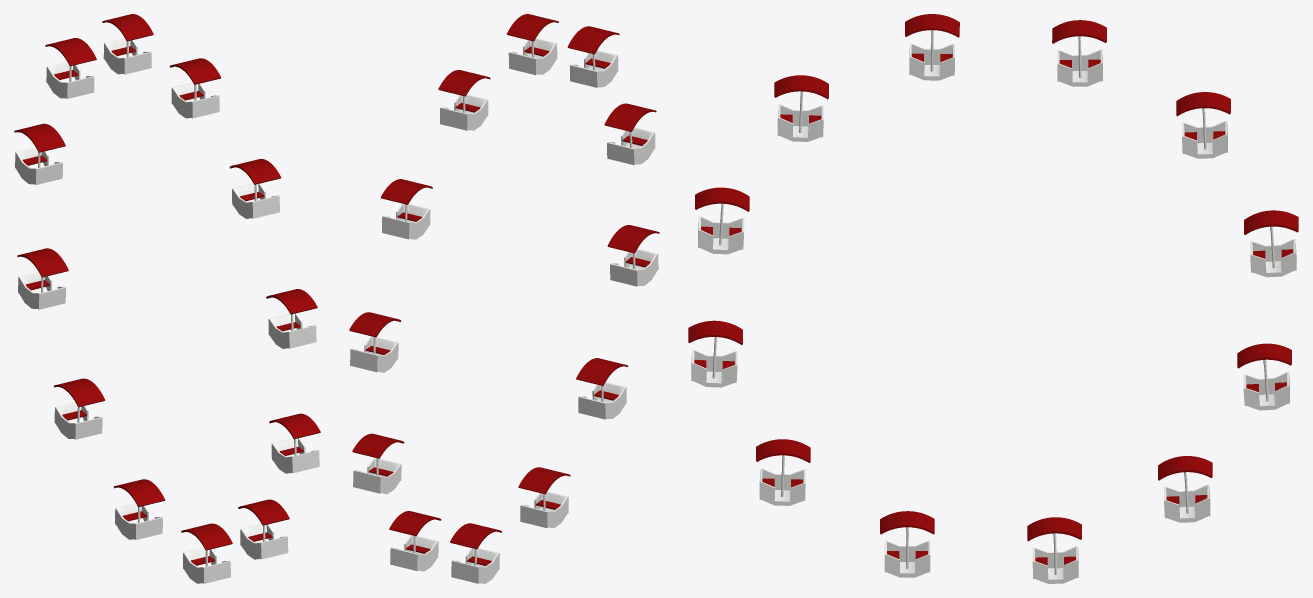
Rendered from seatings.obj.
3 views of the same model, side by side, from view 1: azimuth 30°, elevation 25°; view 2: azimuth 150°, elevation 25°; view 3: azimuth 270°, elevation 25° (orthographic). The views are drawn at different scales.
Parts seen in each view (by area): view 1: B2_7_2_Mat, B2_5_Mat, B2_2_Mat, B2_9_2_Mat, B2_10_2_Mat, B2_4_Mat, B2_6_2_Mat, B2_12_Mat, B2_3_Mat, B2_Mat, B1_2_Mat, B2_8_2_Mat (+12 smaller); view 2: B2_12_Mat, B1_2_Mat, B2_6_2_Mat, B2_9_2_Mat, B2_8_2_Mat, B2_Mat, B2_5_Mat, B2_10_2_Mat, B2_4_Mat, B2_3_Mat, B2_7_2_Mat, B2_2_Mat (+12 smaller); view 3: B1_2_Mat, B2_2_Mat, B2_10_2_Mat, B2_12_Mat, B2_Mat, B2_8_2_Mat, B2_4_Mat, B2_9_2_Mat, B2_3_Mat, B2_5_Mat, B2_7_2_Mat, B2_6_2_Mat (+12 smaller).
Boxes of the visible parts, x1,y1,x2,y2 form: B2_7_2_Mat: [171, 82, 219, 118]; B2_5_Mat: [46, 62, 94, 98]; B2_2_Mat: [54, 402, 102, 439]; B2_9_2_Mat: [268, 313, 316, 348]; B2_10_2_Mat: [271, 438, 319, 473]; B2_4_Mat: [15, 147, 63, 184]; B2_6_2_Mat: [103, 38, 151, 74]; B2_12_Mat: [240, 524, 288, 559]; B2_3_Mat: [18, 272, 66, 309]; B2_Mat: [115, 503, 162, 539]; B1_2_Mat: [183, 547, 230, 583]; B2_8_2_Mat: [232, 183, 279, 218]; B2_12_Mat: [578, 382, 626, 419]; B1_2_Mat: [520, 491, 568, 528]; B2_6_2_Mat: [440, 94, 488, 130]; B2_9_2_Mat: [607, 127, 655, 165]; B2_8_2_Mat: [569, 50, 618, 87]; B2_Mat: [451, 548, 499, 583]; B2_5_Mat: [382, 203, 430, 239]; B2_10_2_Mat: [610, 249, 658, 286]; B2_4_Mat: [350, 336, 398, 372]; B2_3_Mat: [353, 457, 401, 494]; B2_7_2_Mat: [508, 38, 557, 75]; B2_2_Mat: [390, 535, 438, 571]; B1_2_Mat: [884, 540, 930, 577]; B2_2_Mat: [1164, 484, 1210, 522]; B2_10_2_Mat: [691, 349, 737, 387]; B2_12_Mat: [759, 468, 805, 505]; B2_Mat: [1032, 546, 1078, 583]; B2_8_2_Mat: [777, 104, 823, 141]; B2_4_Mat: [1250, 239, 1296, 277]; B2_9_2_Mat: [698, 216, 744, 254]; B2_3_Mat: [1243, 372, 1289, 410]; B2_5_Mat: [1182, 121, 1227, 158]; B2_7_2_Mat: [909, 43, 954, 80]; B2_6_2_Mat: [1057, 49, 1102, 86].
Size of the model in its own units: 0.5282 by 9.44 by 9.39.
